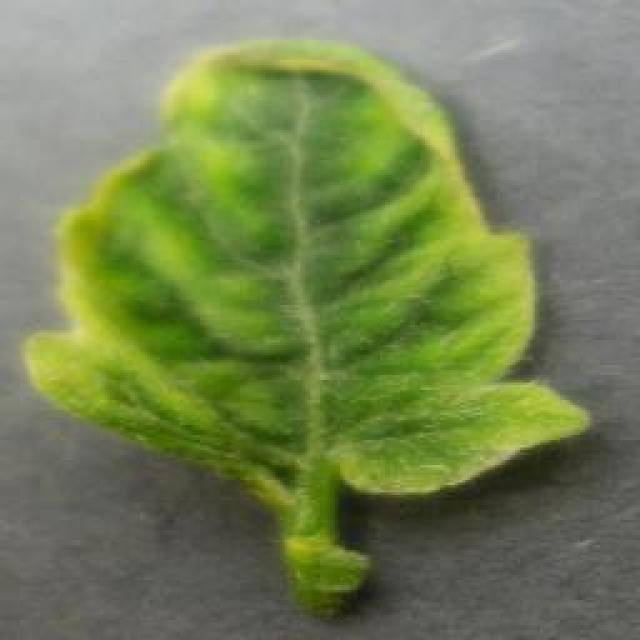Tom_Yellow_Leaf_Curl_Virus: (55, 51, 541, 495)
